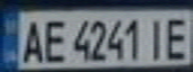1: (121, 15, 145, 61)
2: (87, 16, 109, 62)
4: (69, 16, 93, 63), (106, 16, 127, 61)
A: (18, 16, 45, 64)
E: (160, 14, 193, 61), (39, 16, 69, 64)
I: (142, 15, 169, 61)
